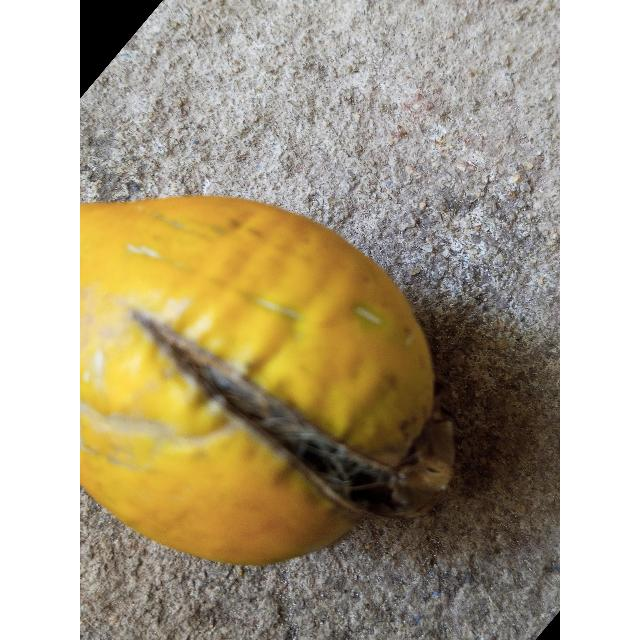damaged: (80, 197, 454, 565)
